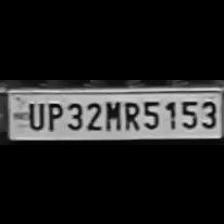1: (161, 97, 177, 129)
2: (82, 98, 102, 130)
3: (198, 96, 218, 128), (64, 98, 82, 130)
5: (176, 96, 198, 128), (140, 97, 160, 129)
M: (102, 96, 120, 130)
P: (43, 98, 62, 130)
R: (121, 96, 139, 130)
U: (23, 99, 44, 129)
